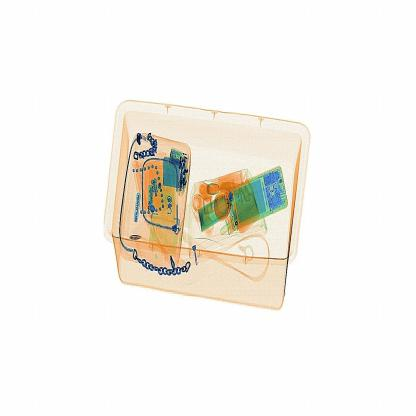wrench: (124, 230, 146, 250)
